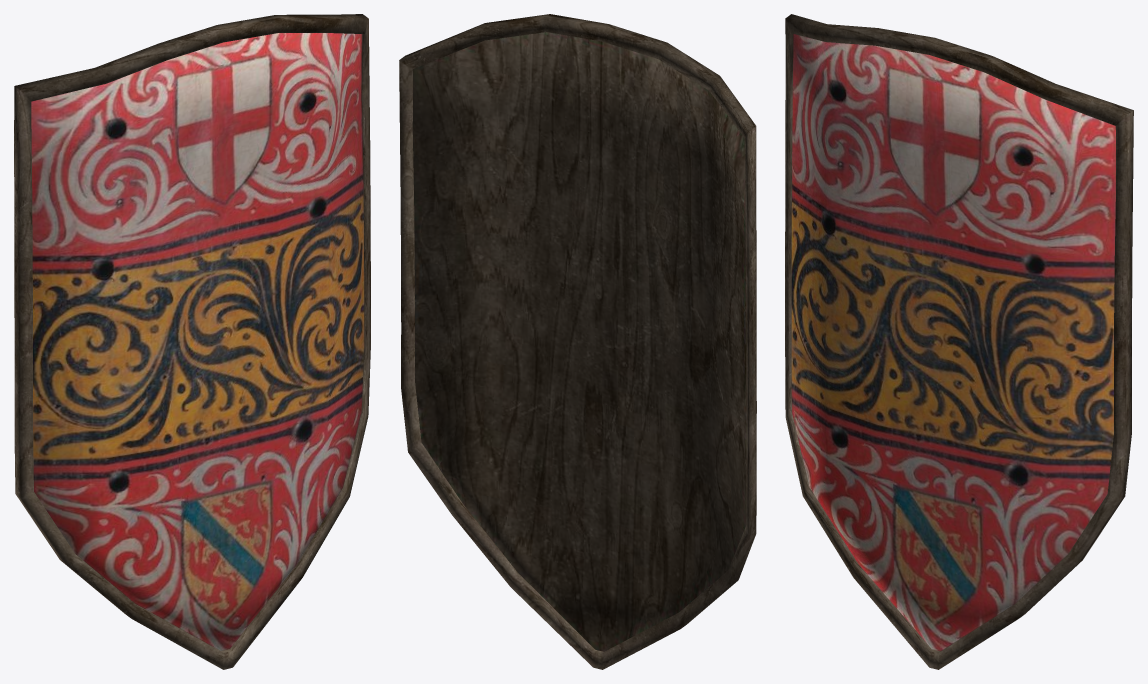
Rendered from shield_heater.glb.
3 views of the same model, side by side, from view 1: azimuth 30°, elevation 25°; view 2: azimuth 150°, elevation 25°; view 3: azimuth 330°, elevation 25° (orthographic). The views are drawn at different scales.
Parts seen in each view (by area): view 1: Knights_Shield_Knights_Shield_0; view 2: Knights_Shield_Knights_Shield_0; view 3: Knights_Shield_Knights_Shield_0.
Boxes of the visible parts, x1,y1,x2,y2 form: Knights_Shield_Knights_Shield_0: [14, 14, 370, 669]; Knights_Shield_Knights_Shield_0: [399, 14, 756, 669]; Knights_Shield_Knights_Shield_0: [785, 14, 1133, 669].
Bounding box in the file's own units: 0.5451 × 0.9546 × 0.0949.
1 material, 1 textured.
